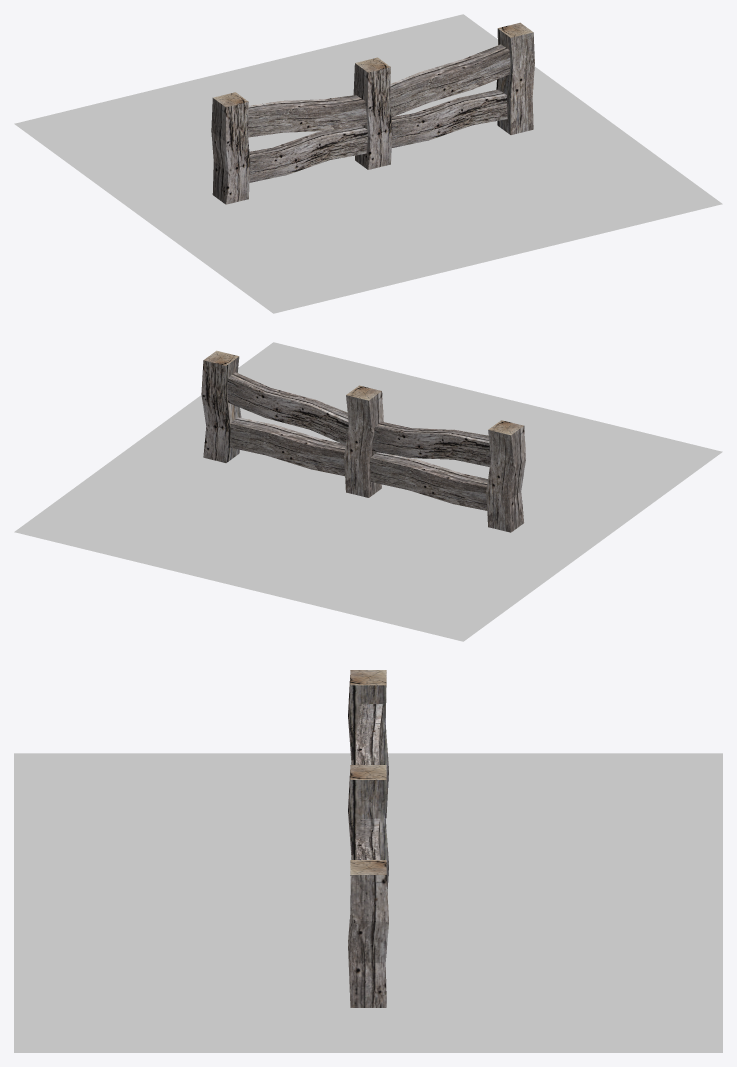
The model's file is FenceSanto.glb.
3 renders of one model, top to bottom at view 1: azimuth 30°, elevation 25°; view 2: azimuth 150°, elevation 25°; view 3: azimuth 270°, elevation 25°, orthographic. The views are drawn at different scales.
Visible parts, largest first — view 1: Plane, Cube.002, Cube.004, Cube.006, Cube.005, Cube.001, Cube, Cube.003; view 2: Plane, Cube.002, Cube.005, Cube.004, Cube.001, Cube.006, Cube, Cube.003; view 3: Plane, Cube.003, Cube, Cube.004, Cube.006, Cube.002.
Part boxes in pixels (x1,y1,x2,y2): Plane: (14, 14, 722, 313); Cube.002: (390, 44, 510, 117); Cube.004: (211, 92, 250, 204); Cube.006: (248, 95, 367, 137); Cube.005: (249, 125, 367, 182); Cube.001: (391, 89, 507, 147); Cube: (353, 57, 392, 169); Cube.003: (496, 22, 534, 134); Plane: (14, 342, 722, 641); Cube.002: (227, 372, 348, 444); Cube.005: (369, 452, 487, 510); Cube.004: (486, 420, 525, 532); Cube.001: (229, 417, 345, 476); Cube.006: (372, 421, 490, 466); Cube: (344, 385, 383, 497); Cube.003: (201, 350, 241, 462); Plane: (14, 753, 722, 1052); Cube.003: (348, 860, 388, 1007); Cube: (348, 765, 388, 910); Cube.004: (348, 670, 388, 818); Cube.006: (356, 704, 382, 764); Cube.002: (355, 818, 379, 859).
Bounding box in the file's own units: 9.66 × 2.01 × 9.66.
Materials: 1 (1 with a texture image).
